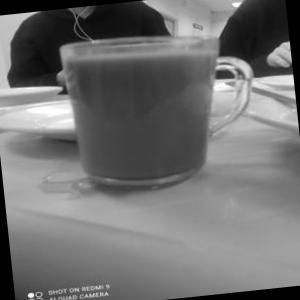coffee: (46, 7, 272, 206)
